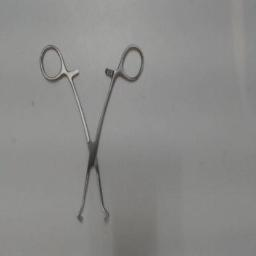Babcock Tissue Forceps: (37, 42, 147, 226)
